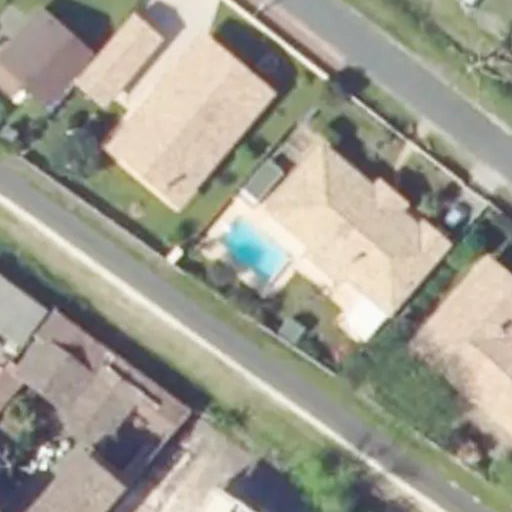pool: (219, 233, 293, 250)
